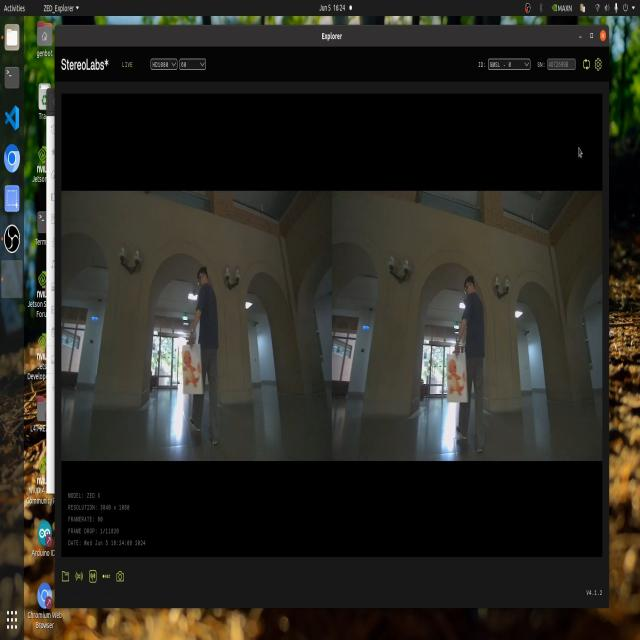red: (178, 347, 200, 398), (447, 361, 462, 402)
